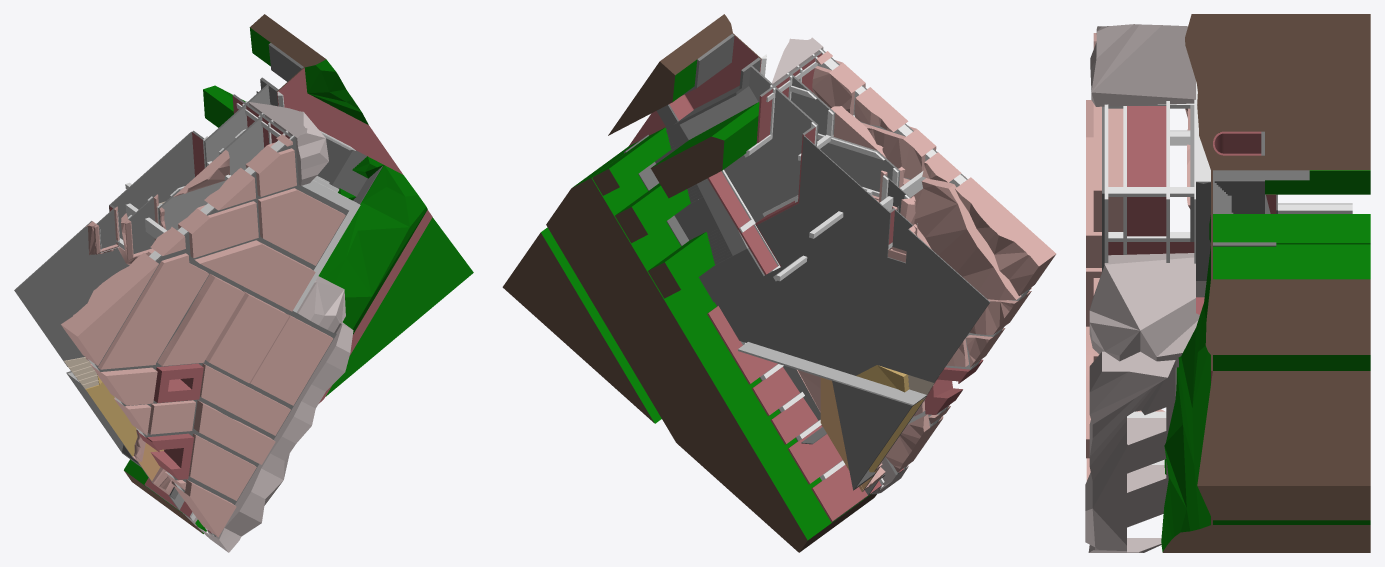
Rendered from concert-hall.glb.
The picture shows the model from 3 angles, left to right: view 1: azimuth 30°, elevation 25°; view 2: azimuth 150°, elevation 25°; view 3: azimuth 270°, elevation 25°; orthographic projection. The views are drawn at different scales.
Visible parts, largest first — view 1: Mass 26, =>[0:1:1:4], 6" concrete, Mass 53, Footpath, ramp, Fire Protection 268, 3' steps, Enterance steps, 9" brick; view 2: =>[0:1:1:4], 6" concrete, Mass 26, Footpath, ramp, Fire Protection 268, 9" concrete, Mass 53, 3' steps, 1' wood; view 3: =>[0:1:1:4], Mass 53, Footpath, Mass 26, Fire Protection 268, 6" concrete, 9" brick, ramp.
Boxes of the visible parts, <box> form: Mass 26: <box>61,134,345,537</box>; =>[0:1:1:4]: <box>124,14,473,533</box>; 6" concrete: <box>14,45,382,536</box>; Mass 53: <box>183,102,353,552</box>; Footpath: <box>109,68,432,533</box>; ramp: <box>158,85,271,509</box>; Fire Protection 268: <box>88,91,360,535</box>; 3' steps: <box>85,374,137,456</box>; Enterance steps: <box>64,201,165,388</box>; 9" brick: <box>68,43,303,534</box>; =>[0:1:1:4]: <box>502,14,879,552</box>; 6" concrete: <box>624,36,1031,494</box>; Mass 26: <box>797,51,1056,490</box>; Footpath: <box>628,36,983,522</box>; ramp: <box>680,67,899,494</box>; Fire Protection 268: <box>721,49,1030,486</box>; 9" concrete: <box>738,342,926,404</box>; Mass 53: <box>772,37,908,494</box>; 3' steps: <box>856,365,923,472</box>; 1' wood: <box>820,377,877,491</box>; =>[0:1:1:4]: <box>1161,14,1370,552</box>; Mass 53: <box>1085,24,1206,552</box>; Footpath: <box>1108,106,1276,520</box>; Mass 26: <box>1086,33,1190,480</box>; Fire Protection 268: <box>1104,81,1352,464</box>; 6" concrete: <box>1102,106,1277,280</box>; 9" brick: <box>1213,170,1309,180</box>; ramp: <box>1190,105,1270,241</box>.
Bounding box in the file's own units: 59.3 × 57.13 × 23.35.
